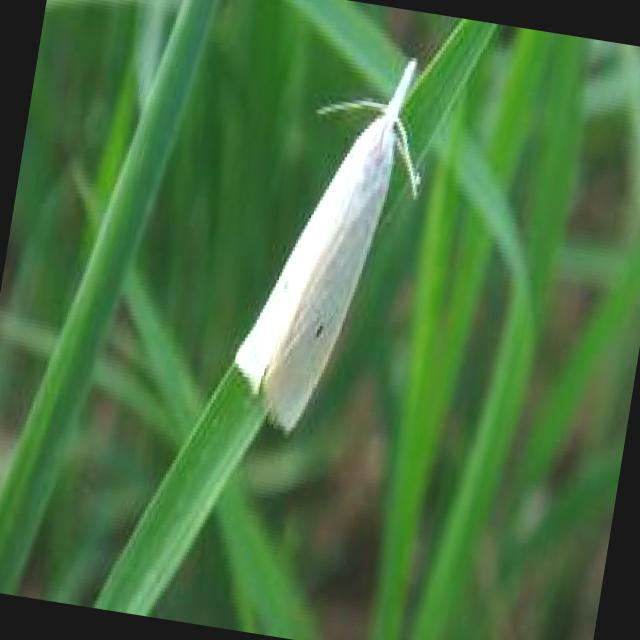stem borer: (235, 60, 419, 430)
